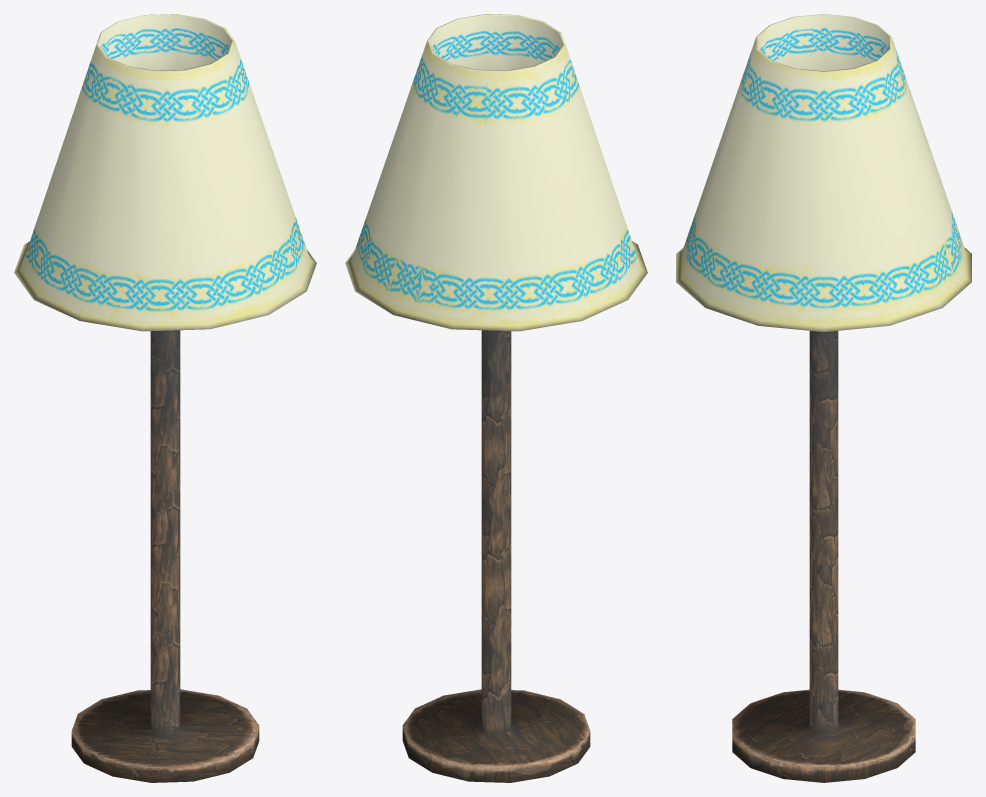
The model's file is lamp.fbx.
3 renders of one model, left to right at view 1: azimuth 30°, elevation 25°; view 2: azimuth 150°, elevation 25°; view 3: azimuth 270°, elevation 25°, orthographic.
Parts seen in each view (by area): view 1: lamp; view 2: lamp; view 3: lamp.
Boxes of the visible parts, x1,y1,x2,y2 form: lamp: (14,14,316,782); lamp: (345,14,647,782); lamp: (676,14,971,782).
Bounding box in the file's own units: 0.2521 × 0.642 × 0.2458.
